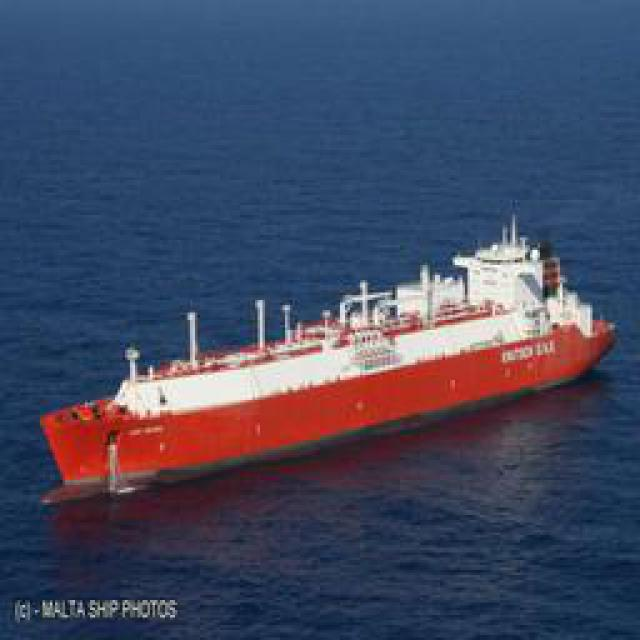Ship: (43, 218, 611, 496)
